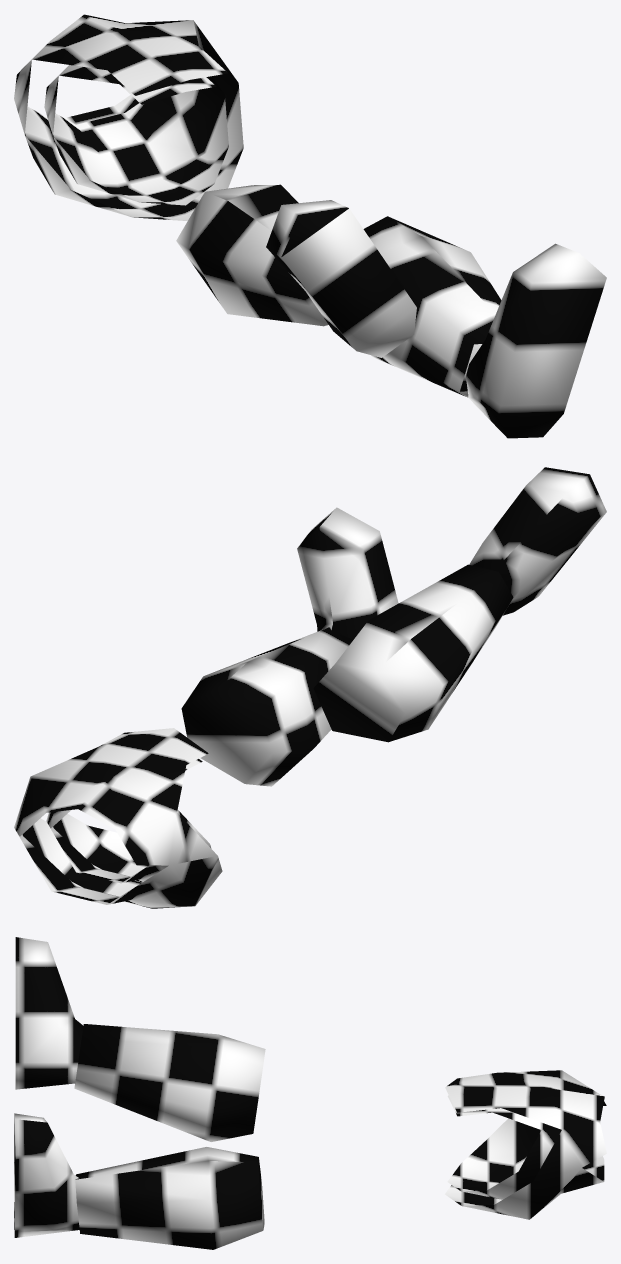
Rendered from initarlg6.dae.
The picture shows the model from 3 angles, top to bottom: view 1: azimuth 30°, elevation 25°; view 2: azimuth 150°, elevation 25°; view 3: azimuth 270°, elevation 25°; orthographic projection. The views are drawn at different scales.
Visible parts, largest first — view 1: armor; view 2: armor; view 3: armor.
Boxes of the visible parts, left/top/right/bottom form: armor: left=14, top=14, right=606, bottom=438; armor: left=14, top=467, right=606, bottom=908; armor: left=14, top=937, right=606, bottom=1249.
Size of the model in its own units: 0.7955 by 1.66 by 0.686.
1 material, 1 textured.
